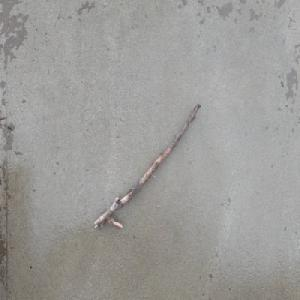Wood: (92, 102, 202, 232)
